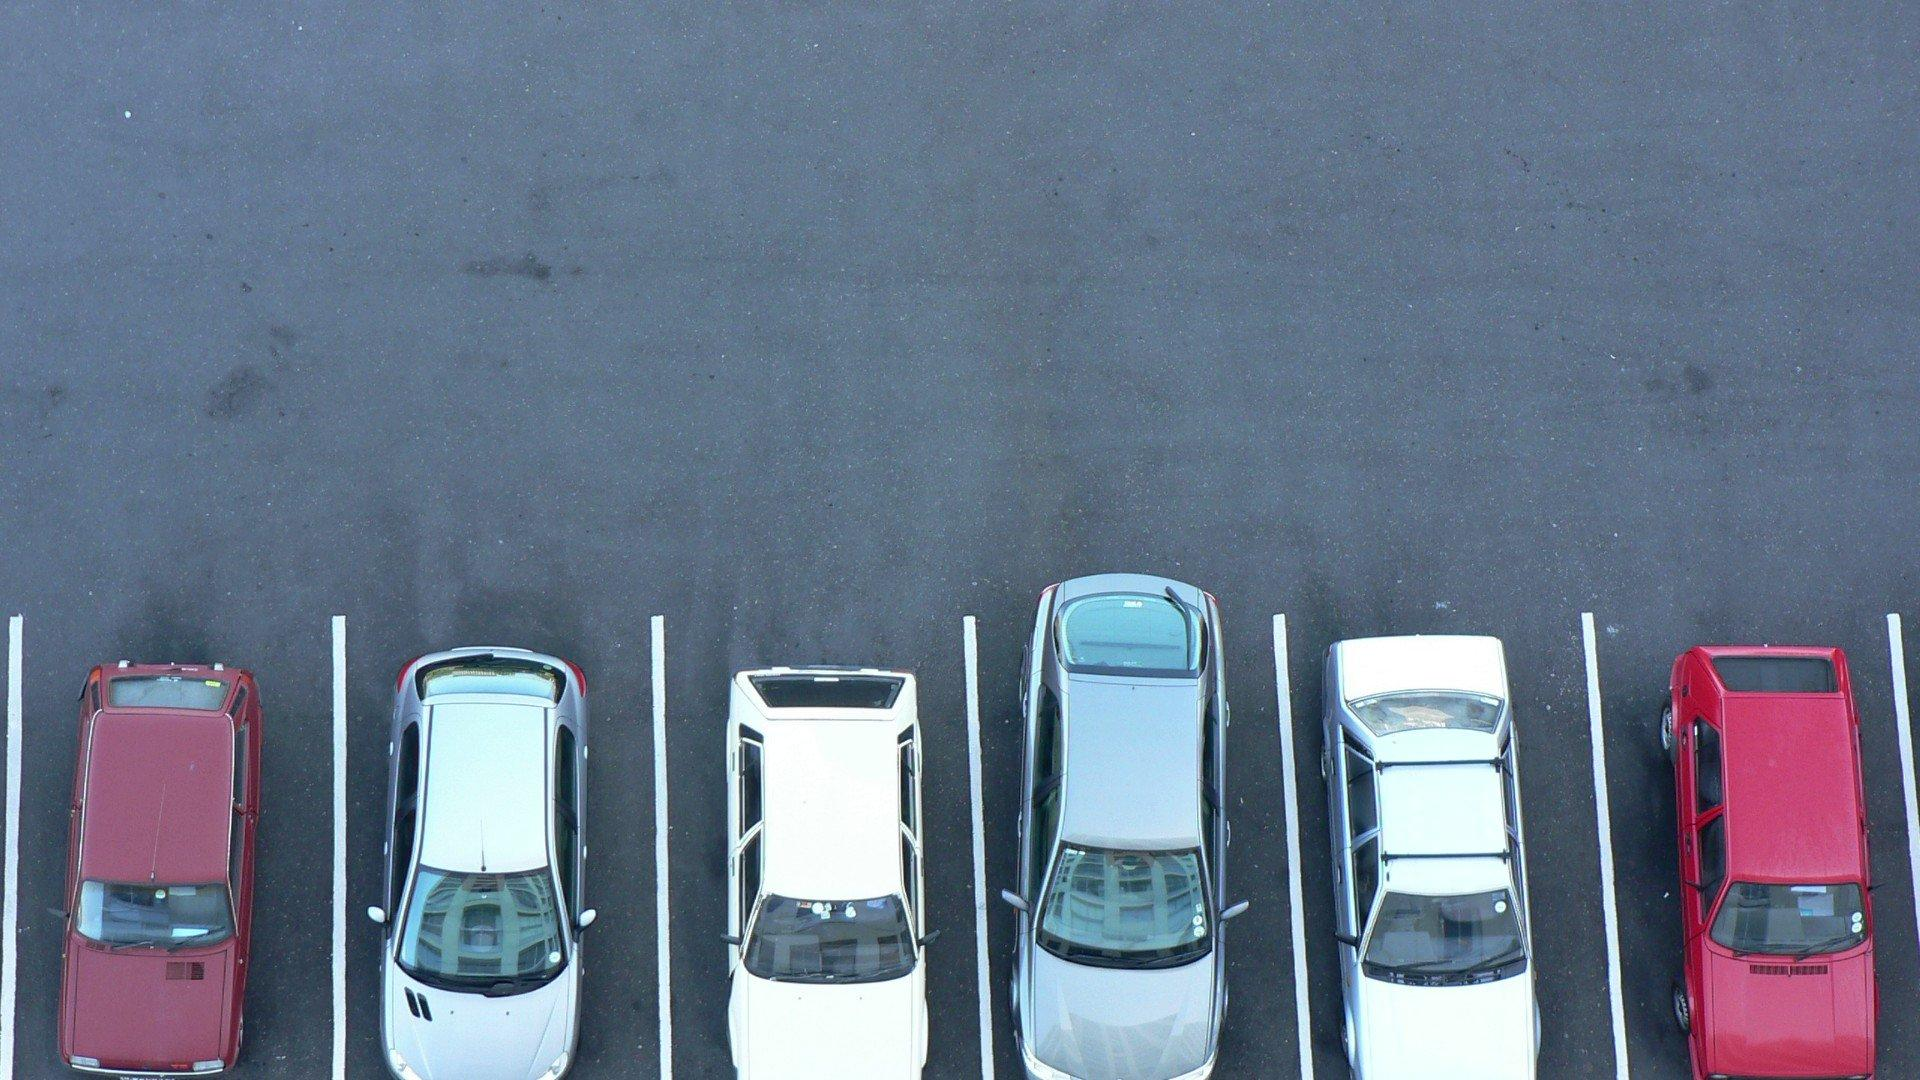occupied: (1275, 613, 1631, 1080), (0, 609, 352, 1080), (960, 613, 1313, 1080), (326, 613, 675, 1080), (651, 617, 1001, 1080)
